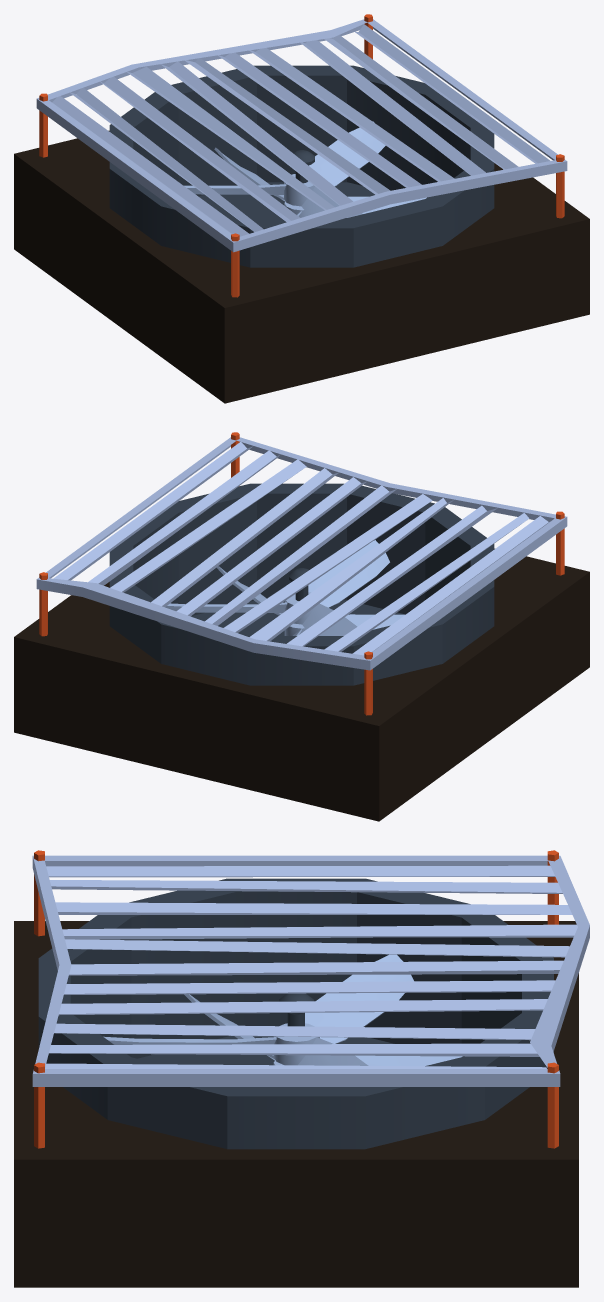
Rendered from Ventilator.fbx.
The picture shows the model from 3 angles, top to bottom: view 1: azimuth 30°, elevation 25°; view 2: azimuth 150°, elevation 25°; view 3: azimuth 270°, elevation 25°; orthographic projection. The views are drawn at different scales.
Parts seen in each view (by area): view 1: Case, Cylinder.008, grid, Gridcase, Rotor, rod, Rotor.001; view 2: Case, Cylinder.008, grid, Gridcase, Rotor, rod, Rotor.001; view 3: Case, grid, Cylinder.008, Gridcase, Rotor, rod, Rotor.001.
Part boxes in pixels (x1,y1,x2,y2): Case: (14,130,589,403); Cylinder.008: (109,65,494,267); grid: (52,24,550,236); Gridcase: (36,19,567,252); Rotor: (184,121,385,217); rod: (39,14,564,297); Rotor.001: (214,147,426,217); Case: (14,548,589,821); Cylinder.008: (109,483,494,685); grid: (53,442,550,655); Gridcase: (36,437,567,670); Rotor: (165,540,389,635); rod: (39,432,564,715); Rotor.001: (216,566,404,635); Case: (14,921,578,1287); grid: (45,865,577,1068); Cylinder.008: (38,878,553,1149); Gridcase: (32,855,589,1086); Rotor: (103,954,413,1065); rod: (34,850,558,1148); Rotor.001: (184,994,462,1066).
Bounding box in the file's own units: 93.17 × 38.15 × 95.02.
